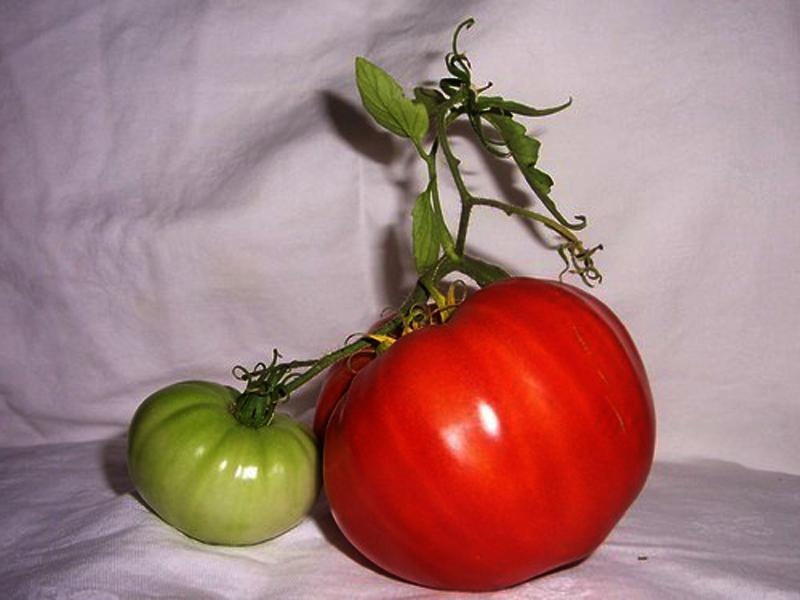Tomato: (313, 277, 655, 589)
